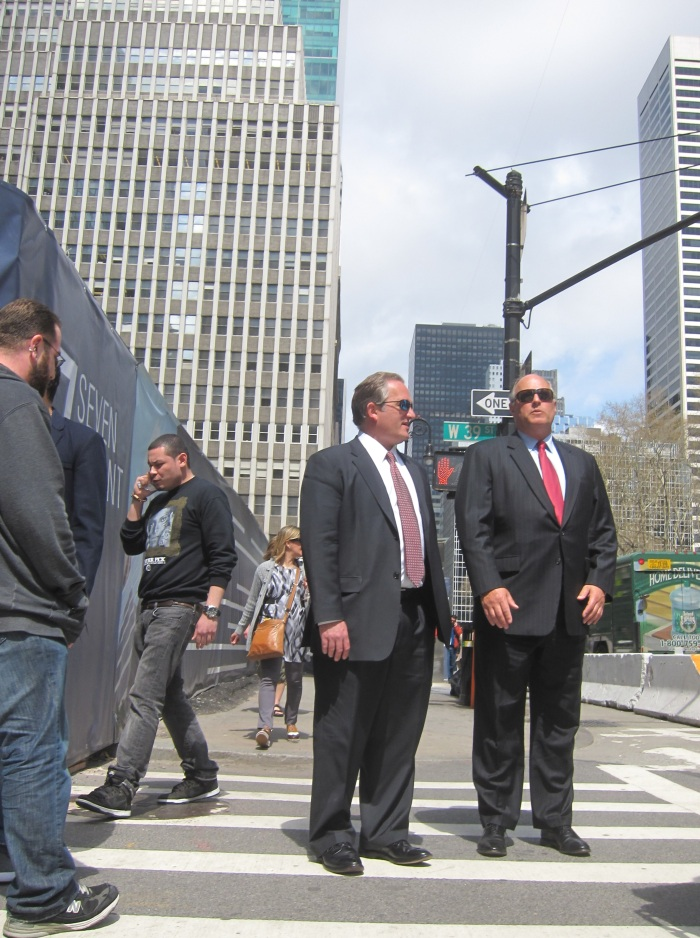Person: (297, 370, 467, 879), (452, 370, 620, 859), (74, 431, 238, 819), (229, 524, 314, 750)
